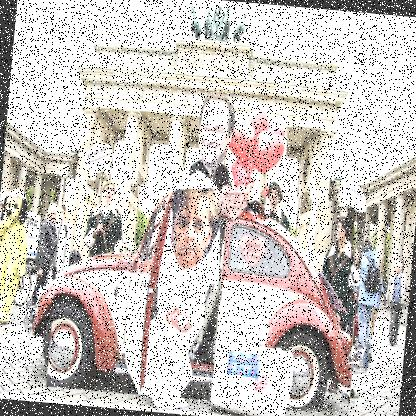Car: (46, 178, 368, 414)
